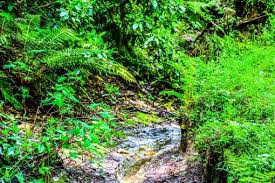forest: (4, 5, 272, 183)
